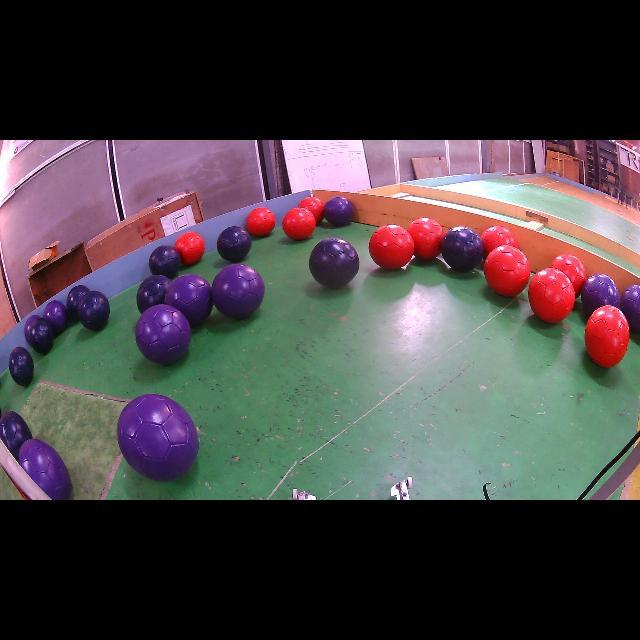B: (309, 238, 360, 289), (440, 226, 484, 271), (0, 411, 32, 461), (136, 275, 171, 314), (78, 290, 110, 331), (216, 226, 251, 262), (24, 315, 54, 354), (149, 245, 181, 278), (9, 346, 34, 385), (66, 285, 90, 321)
P: (118, 394, 199, 481), (135, 304, 191, 364), (19, 439, 71, 500), (211, 264, 265, 319), (165, 274, 212, 326), (581, 274, 620, 315), (619, 285, 640, 332), (324, 196, 354, 226), (42, 300, 68, 334)
R: (585, 305, 630, 368), (529, 268, 575, 323), (484, 245, 530, 296), (369, 225, 414, 269), (551, 254, 588, 297), (408, 218, 445, 259), (481, 226, 519, 258), (282, 208, 316, 240), (175, 231, 205, 264), (246, 208, 275, 236), (299, 196, 325, 223)
